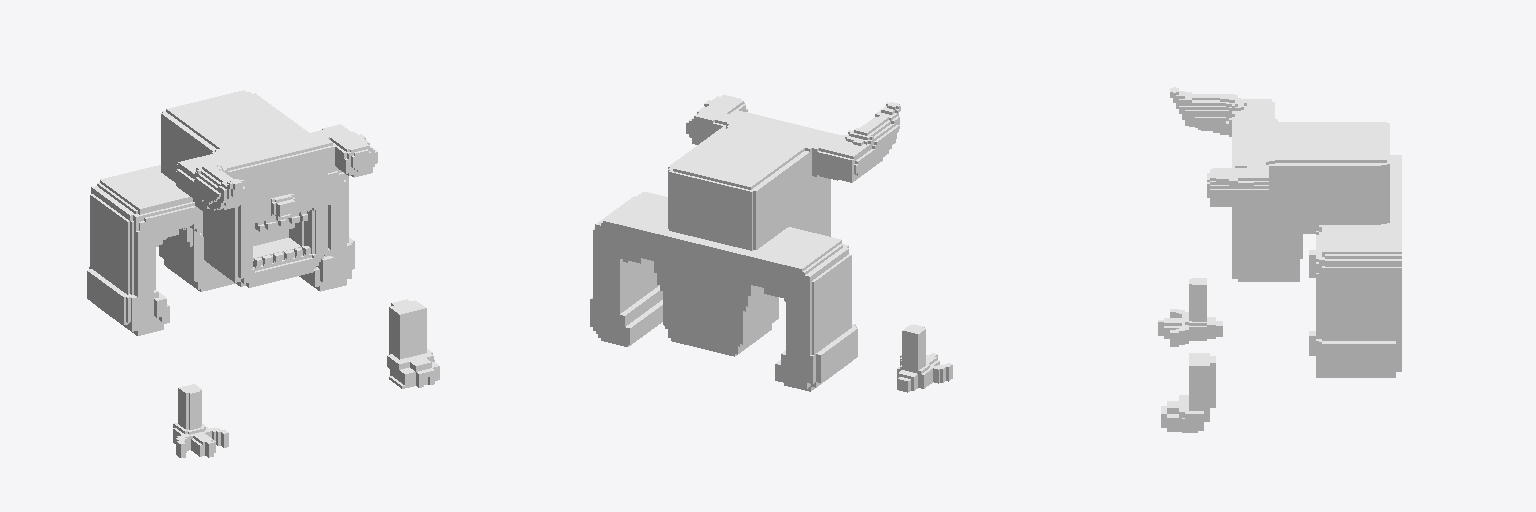
Rendered from MeleeRogatiy-11.obj.
The picture shows the model from 3 angles: view 1: azimuth 30°, elevation 25°; view 2: azimuth 150°, elevation 25°; view 3: azimuth 270°, elevation 25°; orthographic projection.
Visible parts, largest first — view 1: object 1; view 2: object 1; view 3: object 1.
Part boxes in pixels (x1,y1,x2,y2): object 1: (87, 90, 439, 457); object 1: (590, 95, 952, 392); object 1: (1158, 87, 1401, 432).
Size of the model in its own units: 9.7 by 9.3 by 7.9.